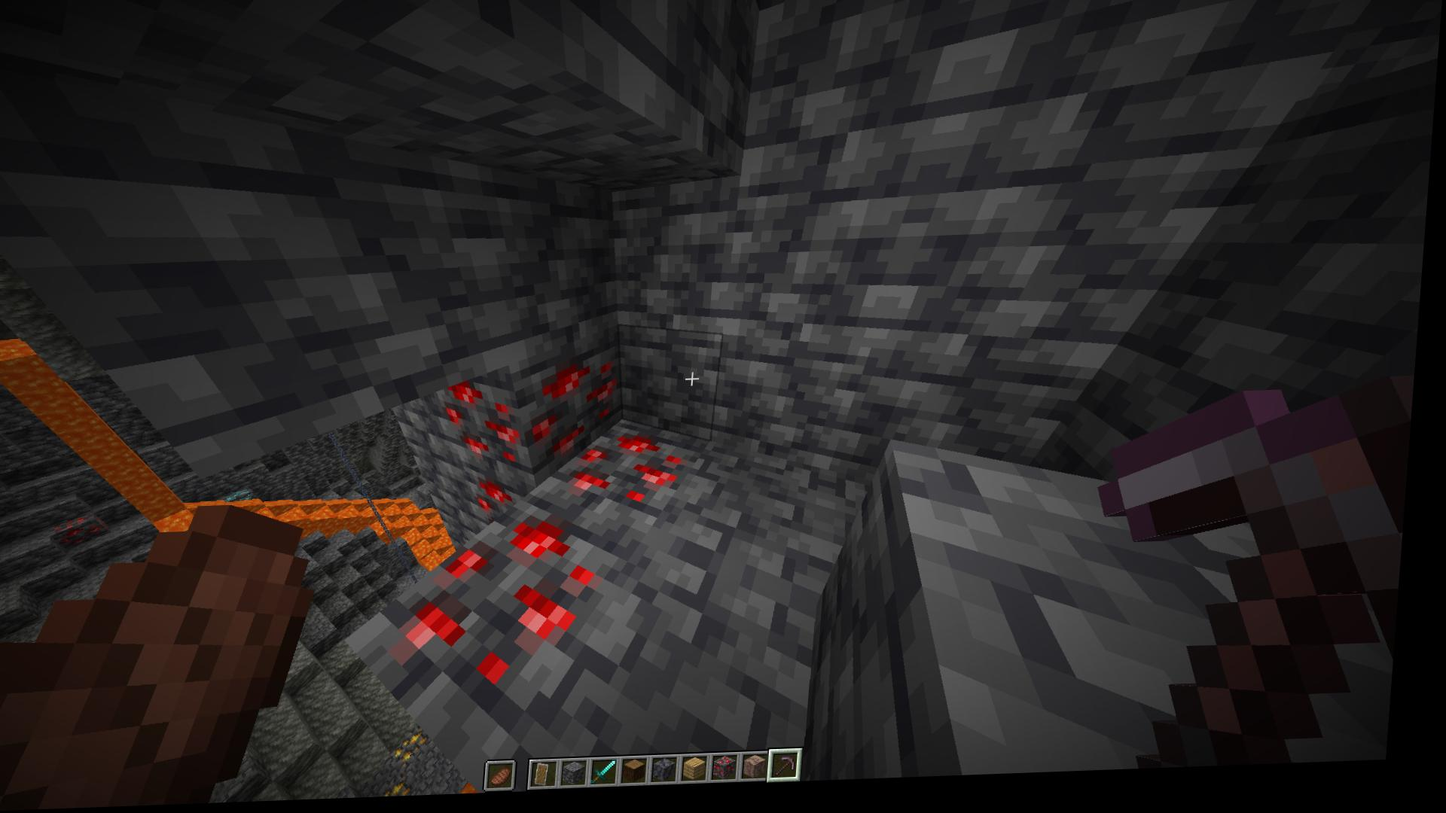redstone ore: (396, 510, 623, 696), (569, 427, 702, 522), (436, 370, 544, 474), (528, 358, 638, 460)
